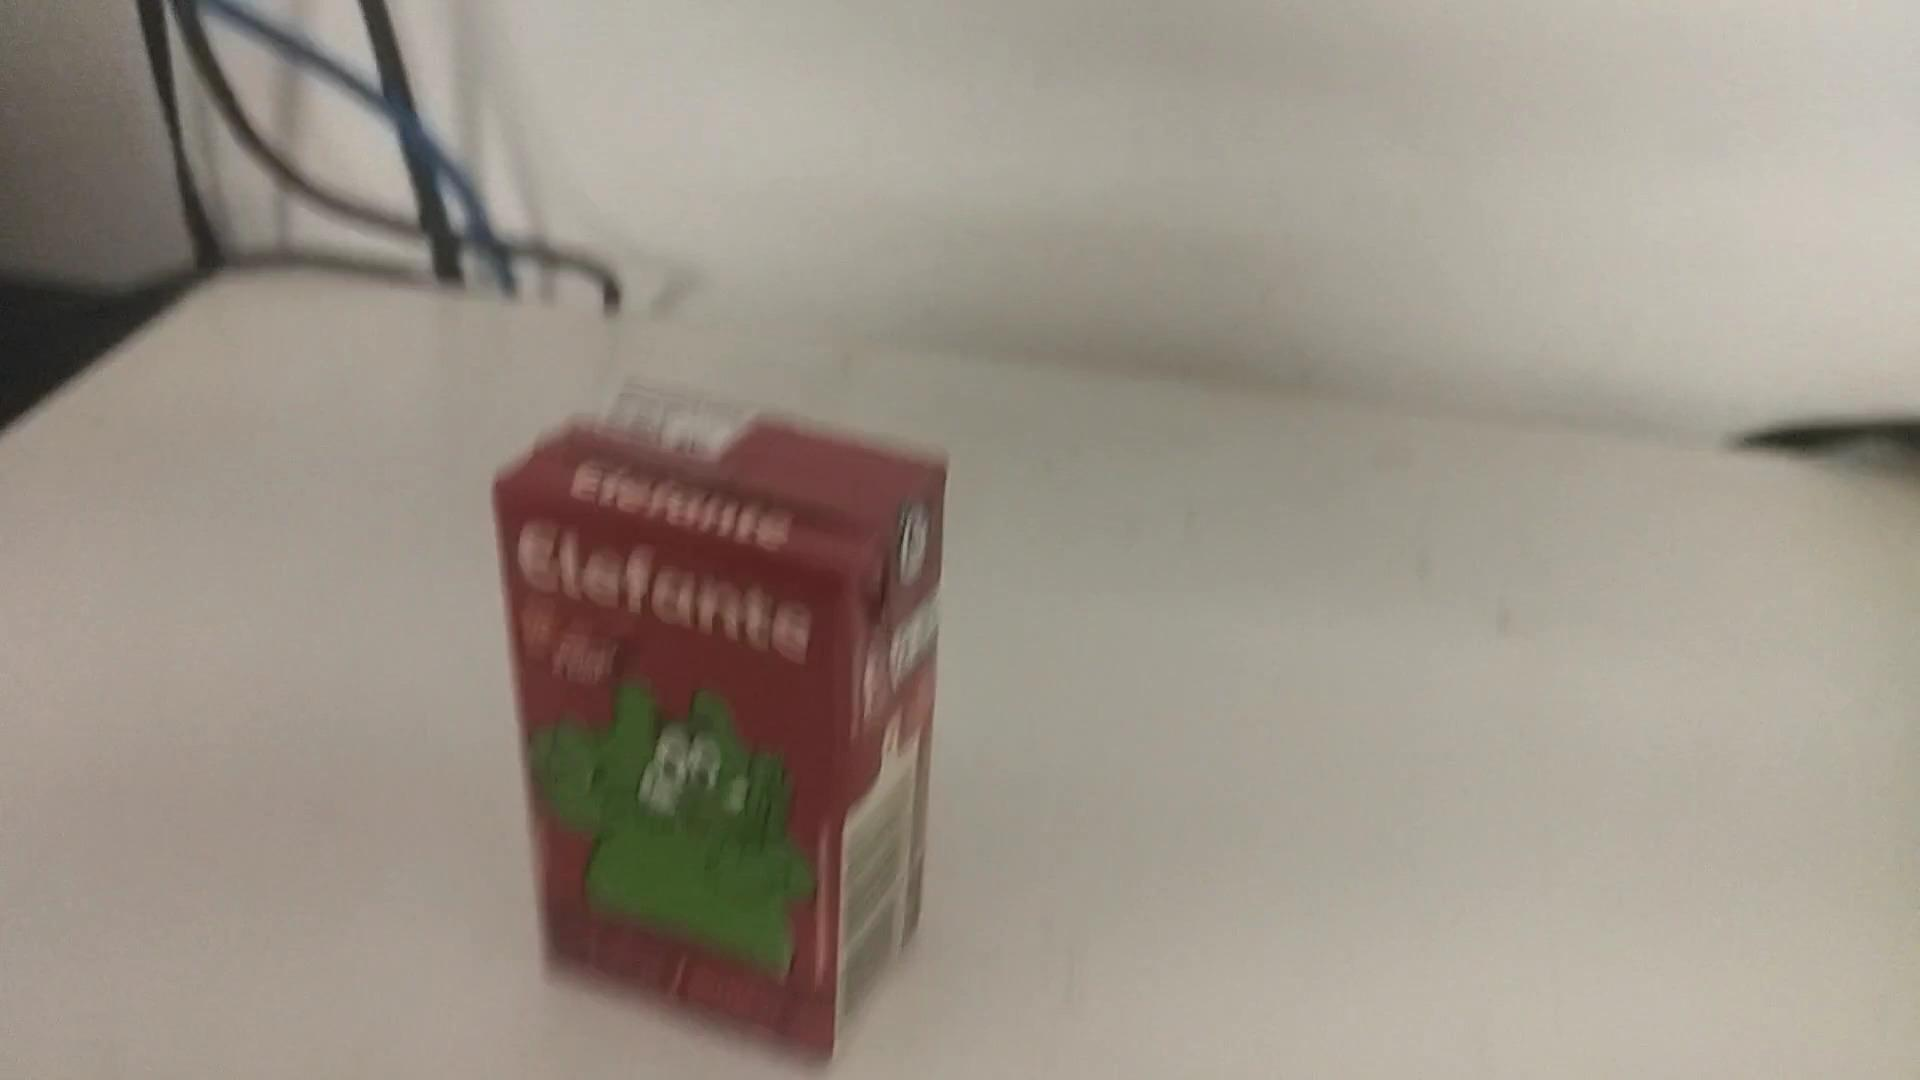tomate: (481, 368, 957, 1067)
